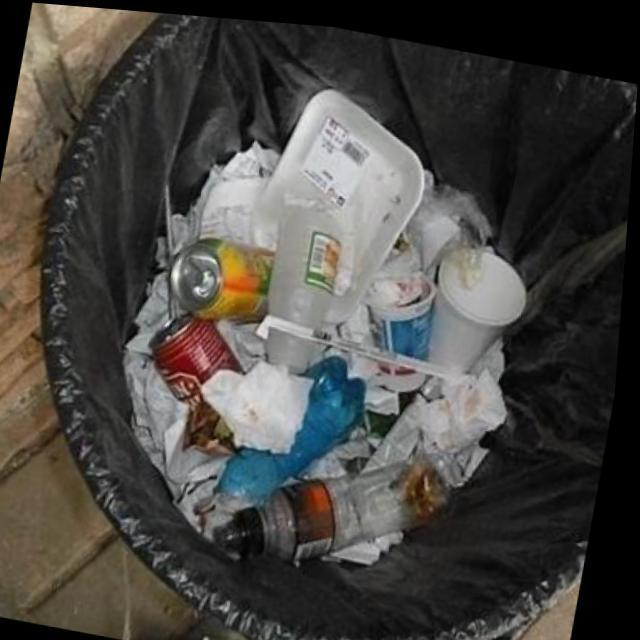Garbage: (129, 84, 528, 558)
Plastic_Container: (267, 83, 426, 322), (270, 322, 324, 366)
Plastic_bottle: (221, 448, 455, 560), (225, 351, 371, 497)
can: (155, 309, 247, 450), (173, 234, 277, 316)
